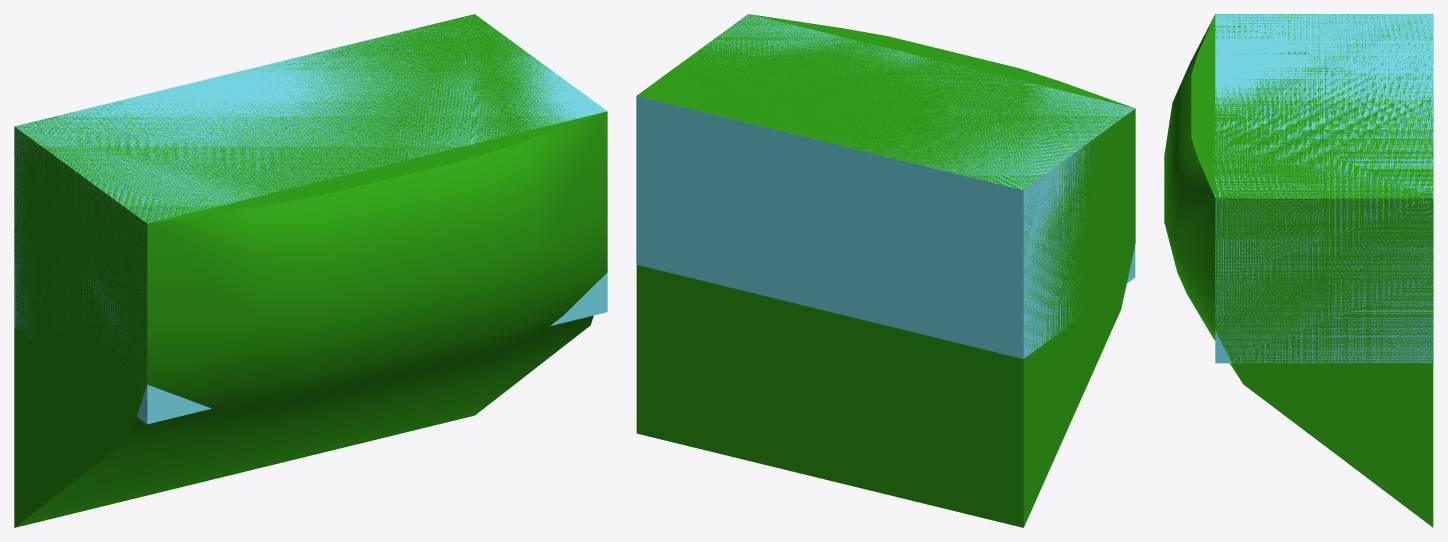
The model's file is PBOX_Grass_BOD_01.FBX.
3 views of the same model, side by side, from view 1: azimuth 30°, elevation 25°; view 2: azimuth 150°, elevation 25°; view 3: azimuth 270°, elevation 25° (orthographic). The views are drawn at different scales.
Parts seen in each view (by area): view 1: PBOX1_SUB_Grass_BOD_002, PBOX_Grass_BOD_01; view 2: PBOX1_SUB_Grass_BOD_002, PBOX_Grass_BOD_01; view 3: PBOX1_SUB_Grass_BOD_002, PBOX_Grass_BOD_01.
Part boxes in pixels (bbox=[...]): PBOX1_SUB_Grass_BOD_002: bbox=[14, 14, 607, 527]; PBOX_Grass_BOD_01: bbox=[14, 14, 607, 424]; PBOX1_SUB_Grass_BOD_002: bbox=[636, 14, 1135, 527]; PBOX_Grass_BOD_01: bbox=[636, 14, 1135, 358]; PBOX1_SUB_Grass_BOD_002: bbox=[1164, 14, 1433, 527]; PBOX_Grass_BOD_01: bbox=[1215, 14, 1433, 363].
Bounding box in the file's own units: 6 × 5 × 3.7.
